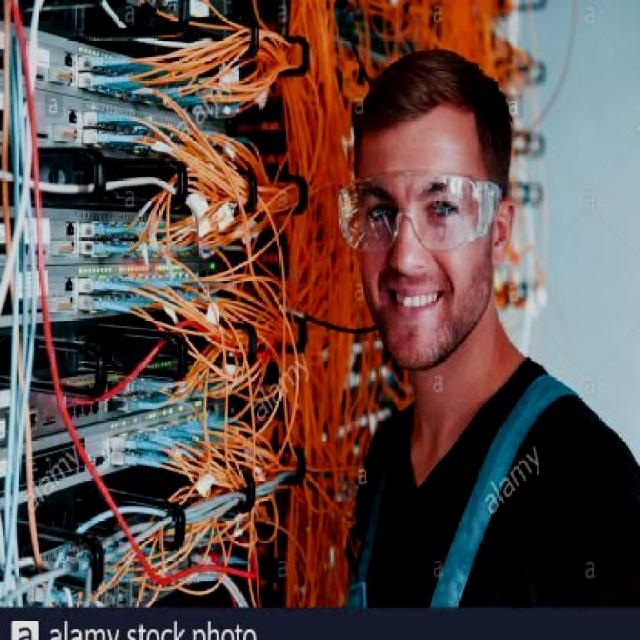face_nomask: (355, 179, 477, 318)
glasses: (336, 168, 509, 260)
head_nohelmet: (358, 45, 518, 143)
person: (346, 55, 640, 603)
